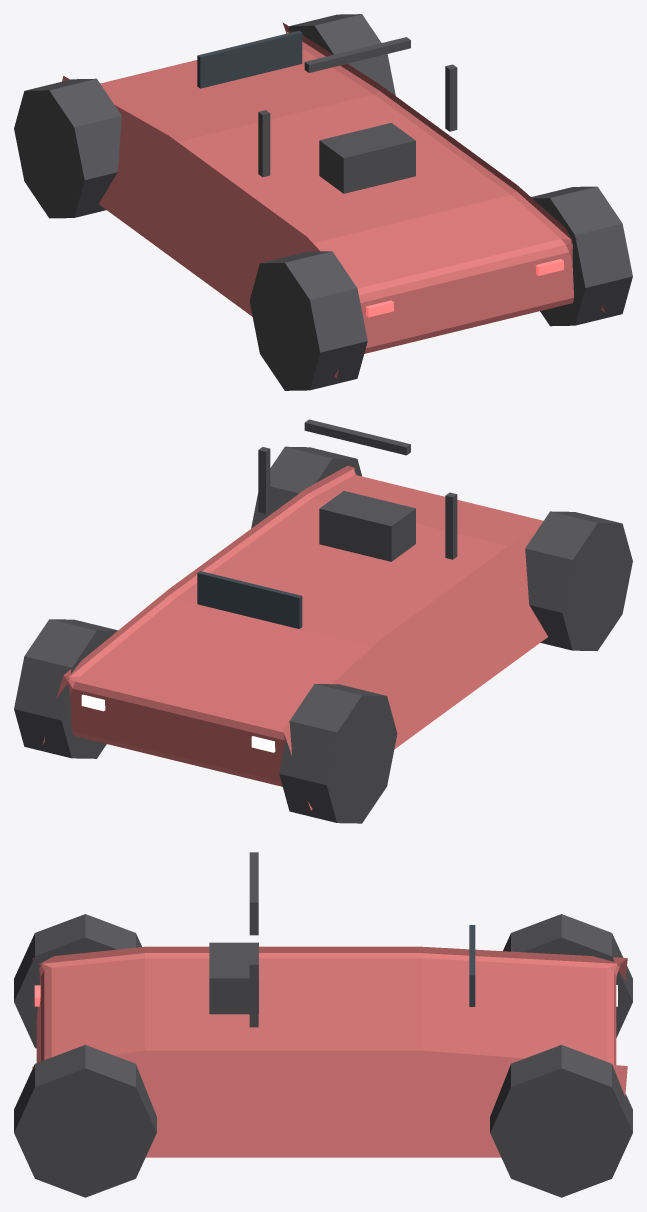
The model's file is car_2_buggy.glb.
The picture shows the model from 3 angles, top to bottom: view 1: azimuth 30°, elevation 25°; view 2: azimuth 150°, elevation 25°; view 3: azimuth 270°, elevation 25°; orthographic projection.
Visible parts, largest first — view 1: car_2_buggy_body, Arch.002, Arch, Arch.003, Seat, Windshield, Arch.001, RollTop, RollL, RollR; view 2: car_2_buggy_body, Arch, Arch.002, Arch.001, Seat, Windshield, Arch.003, RollTop, RollL, RollR; view 3: car_2_buggy_body, Arch.003, Arch.001, Arch.002, Arch, Seat, RollR, RollTop, Windshield.
Boxes of the visible parts, bbox=[...] form: car_2_buggy_body: bbox=[62, 22, 605, 377]; Arch.002: bbox=[249, 251, 367, 390]; Arch: bbox=[14, 78, 121, 218]; Arch.003: bbox=[531, 186, 632, 326]; Seat: bbox=[319, 123, 415, 193]; Windshield: bbox=[197, 30, 302, 88]; Arch.001: bbox=[288, 14, 395, 95]; RollTop: bbox=[304, 37, 410, 72]; RollL: bbox=[258, 110, 270, 177]; RollR: bbox=[445, 64, 457, 131]; car_2_buggy_body: bbox=[42, 465, 547, 810]; Arch: bbox=[279, 684, 397, 823]; Arch.002: bbox=[525, 511, 632, 650]; Arch.001: bbox=[14, 619, 117, 758]; Seat: bbox=[319, 491, 415, 561]; Windshield: bbox=[197, 571, 302, 628]; Arch.003: bbox=[251, 446, 362, 528]; RollTop: bbox=[304, 419, 410, 455]; RollL: bbox=[445, 492, 457, 559]; RollR: bbox=[258, 447, 270, 513]; car_2_buggy_body: bbox=[32, 946, 627, 1157]; Arch.003: bbox=[14, 1045, 156, 1197]; Arch.001: bbox=[490, 1045, 632, 1197]; Arch.002: bbox=[14, 914, 141, 1048]; Arch: bbox=[503, 914, 632, 1037]; Seat: bbox=[209, 942, 258, 1014]; RollR: bbox=[249, 960, 258, 1027]; RollTop: bbox=[249, 852, 258, 910]; Windshield: bbox=[469, 925, 475, 1006].
Bounding box in the file's own units: 1.84 × 1.35 × 3.12.
